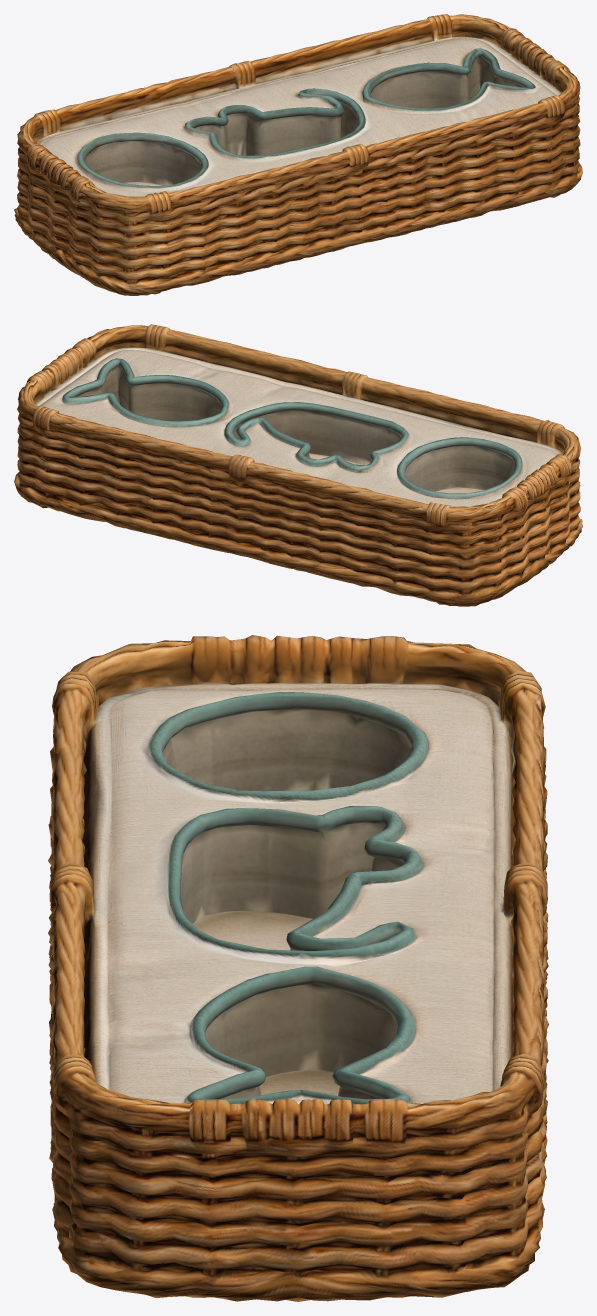
Rendered from tripo_convert_4b8ff411-4734-48aa-ba87-49fb0d585601.fbx.
3 renders of one model, top to bottom at view 1: azimuth 30°, elevation 25°; view 2: azimuth 150°, elevation 25°; view 3: azimuth 270°, elevation 25°, orthographic. The views are drawn at different scales.
Visible parts, largest first — view 1: tripo_node_4b8ff411; view 2: tripo_node_4b8ff411; view 3: tripo_node_4b8ff411.
Boxes of the visible parts, x1,y1,x2,y2 form: tripo_node_4b8ff411: (14,14,582,295); tripo_node_4b8ff411: (14,324,582,606); tripo_node_4b8ff411: (48,635,548,1301).
Bounding box in the file's own units: 0.981 × 0.1898 × 0.43.
Materials: 1 (1 with a texture image).
